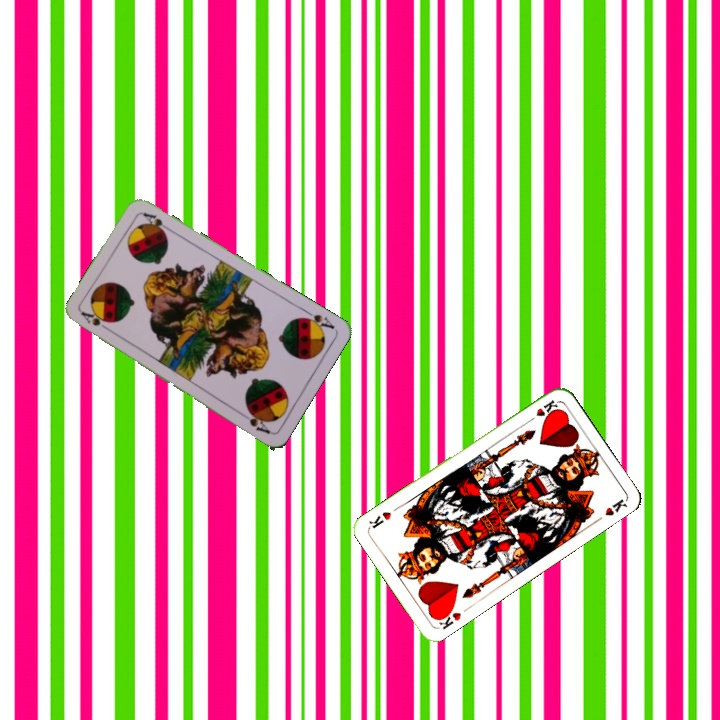HK: (523, 395, 560, 425), (432, 604, 464, 632)
SA: (297, 306, 337, 334), (78, 307, 114, 335)
